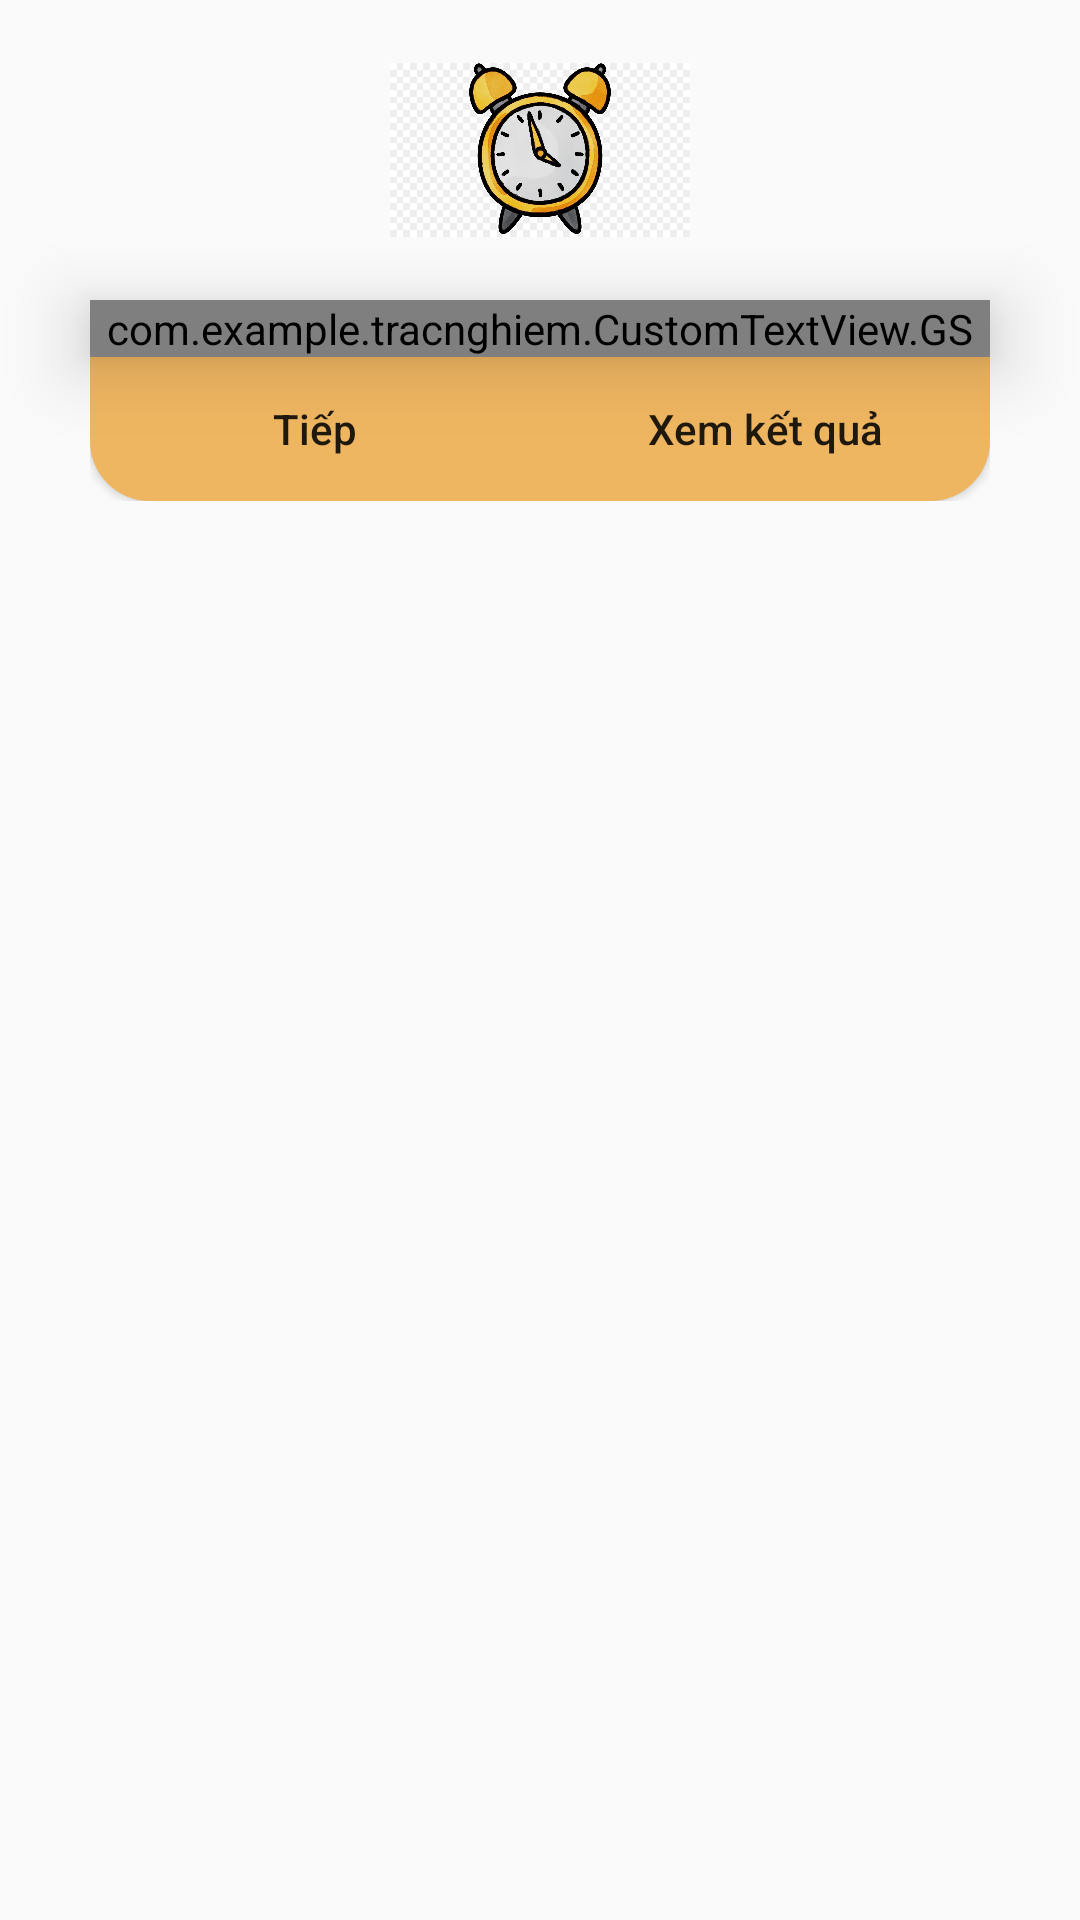

Icons on this 1080 x 1920 Android screen, each with the point to tap as [x,y]:
timeout: [540,148]
